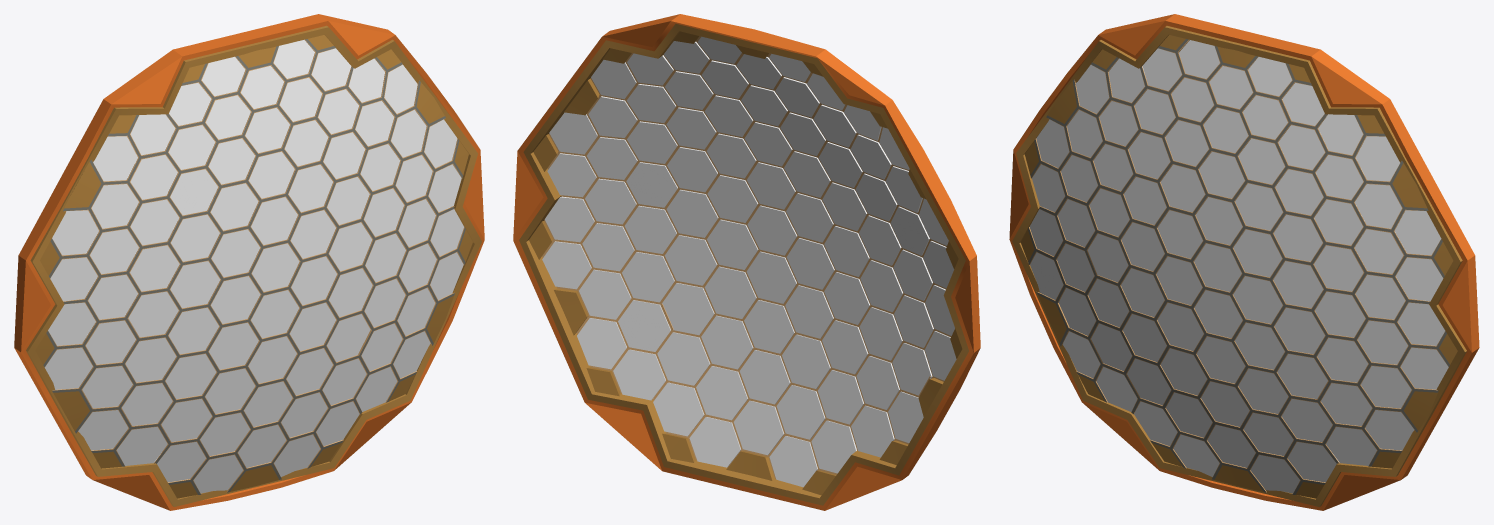
Rendered from Hexpane_Window.glb.
The picture shows the model from 3 angles, left to right: view 1: azimuth 30°, elevation 25°; view 2: azimuth 150°, elevation 25°; view 3: azimuth 330°, elevation 25°; orthographic projection.
Visible parts, largest first — view 1: HexpaneWindow_Opt; view 2: HexpaneWindow_Opt; view 3: HexpaneWindow_Opt.
Part boxes in pixels (bbox=[...]): HexpaneWindow_Opt: bbox=[14, 14, 484, 510]; HexpaneWindow_Opt: bbox=[513, 14, 980, 510]; HexpaneWindow_Opt: bbox=[1009, 14, 1479, 510].
Bounding box in the file's own units: 7.19 × 6.79 × 0.8181.
